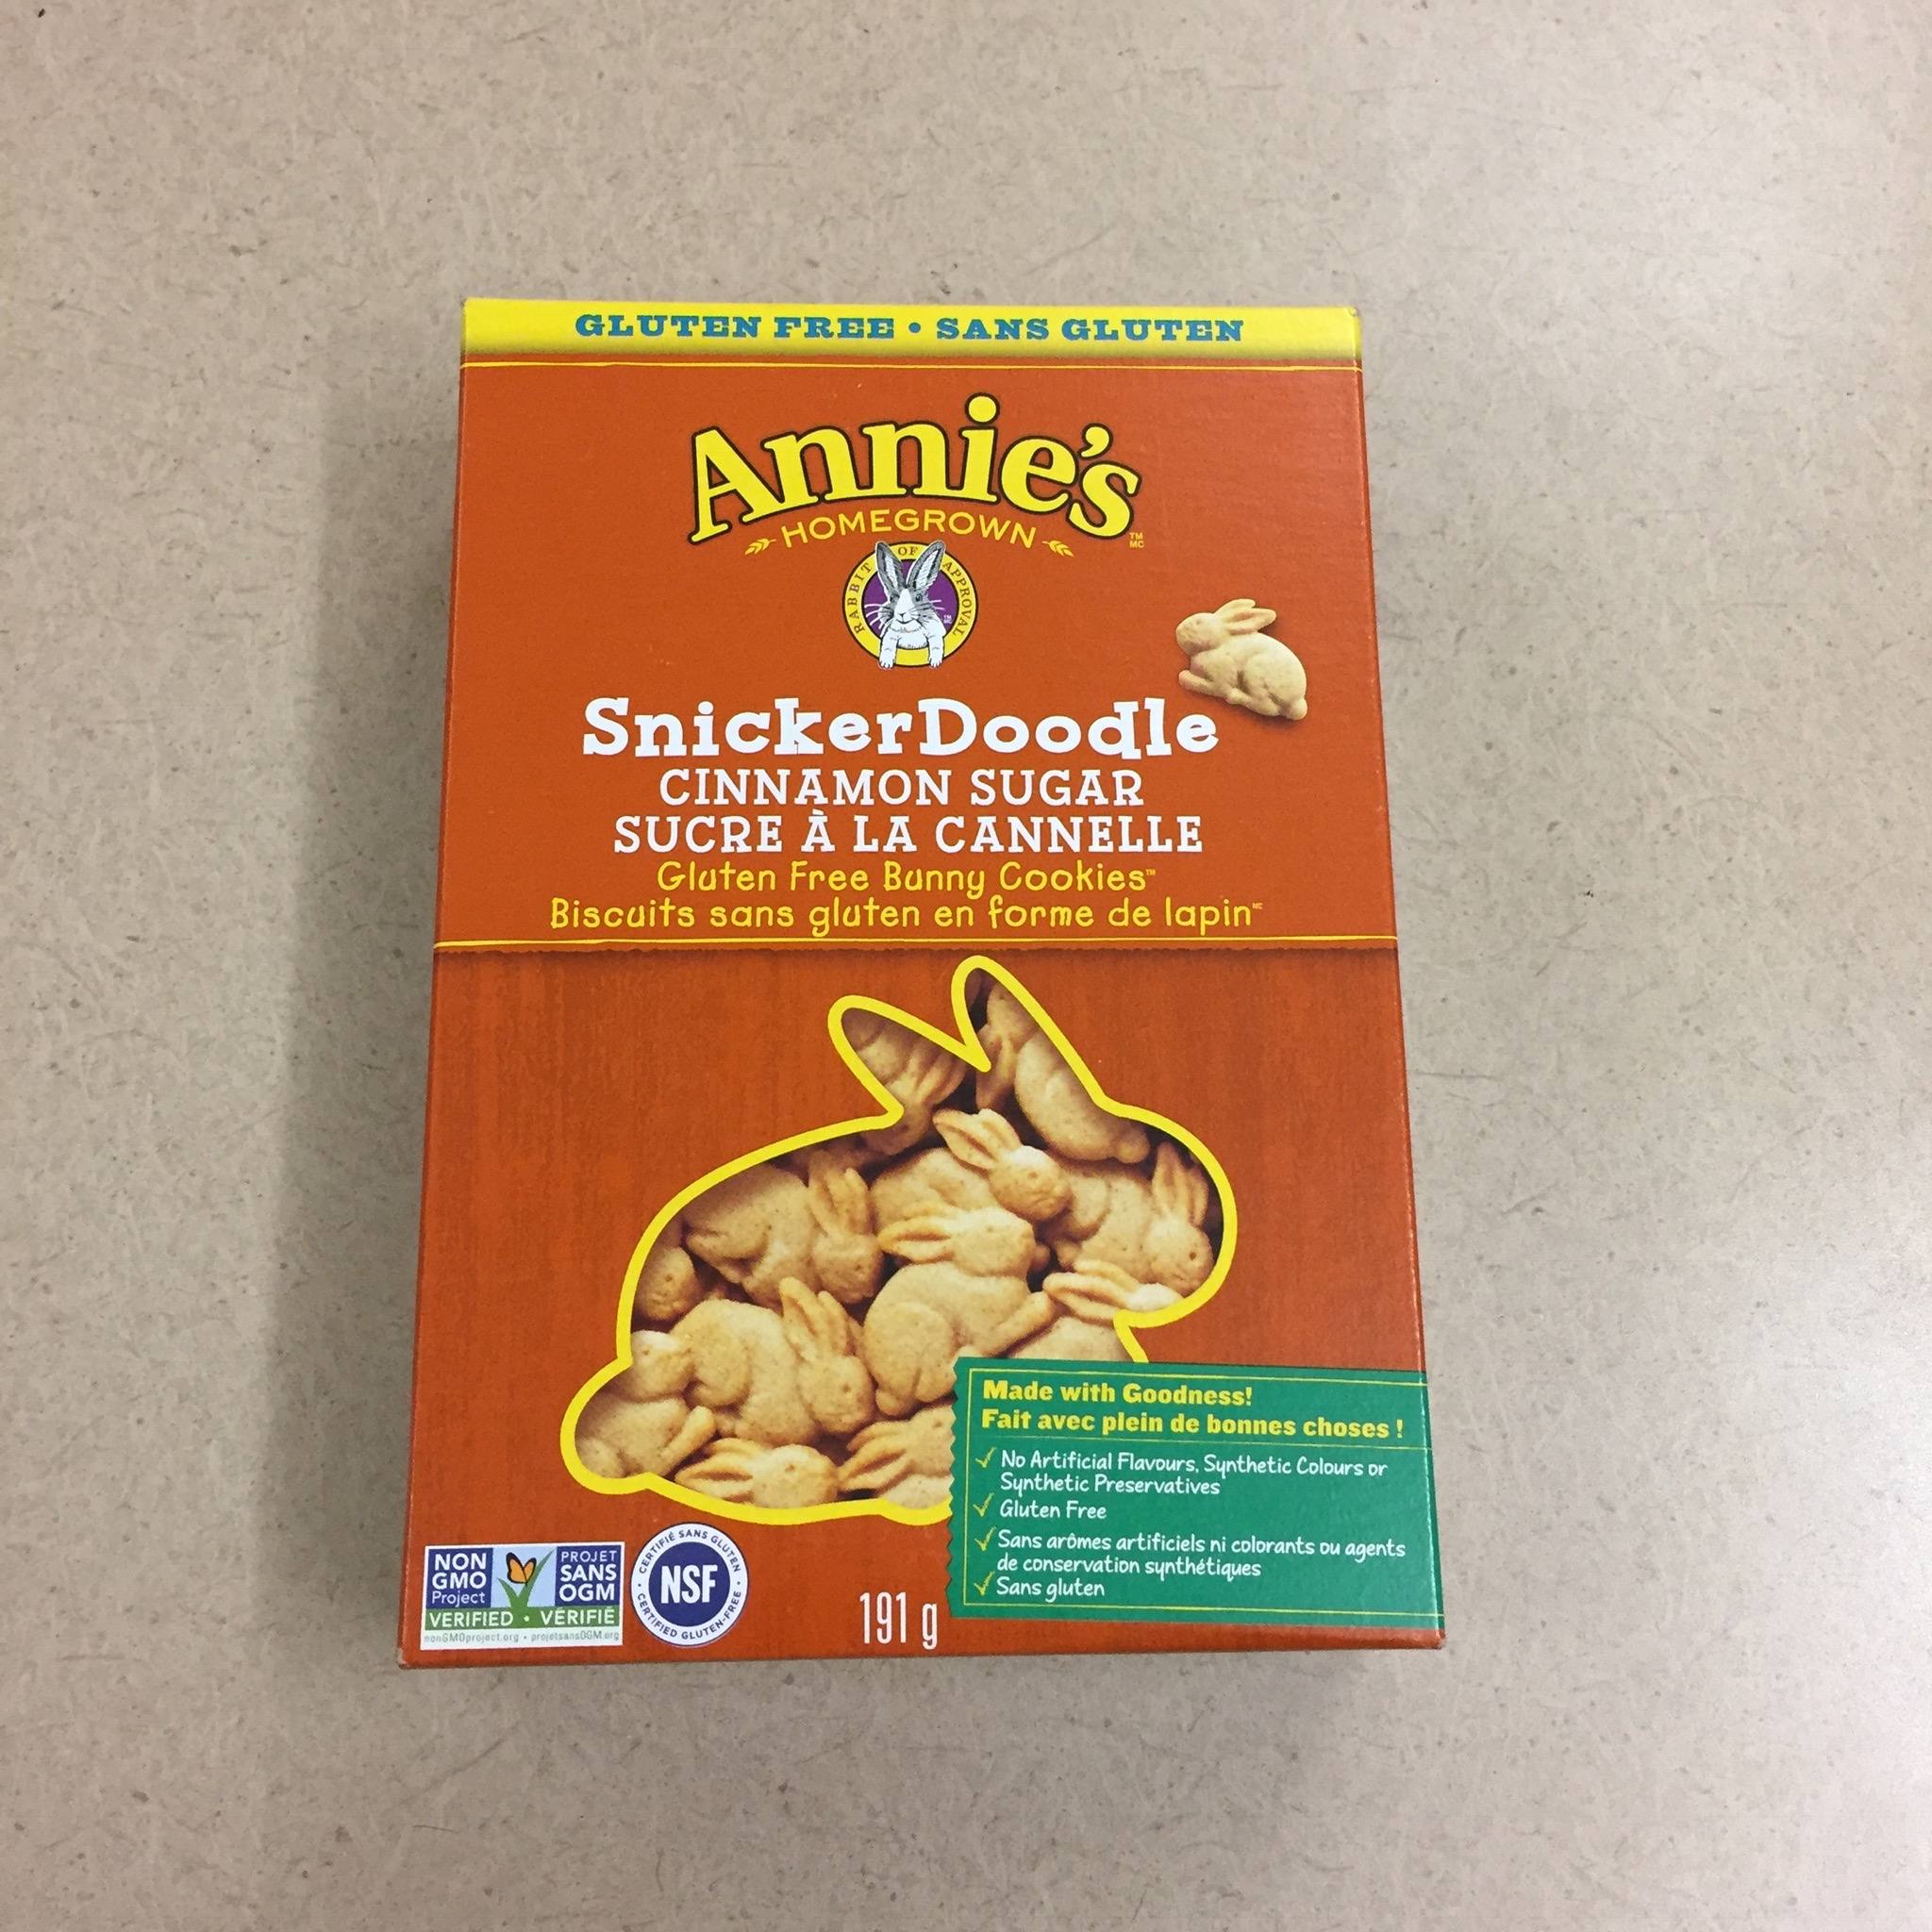annies_snickerdoodle_cinnamon_sugar: (389, 290, 1451, 1674)
